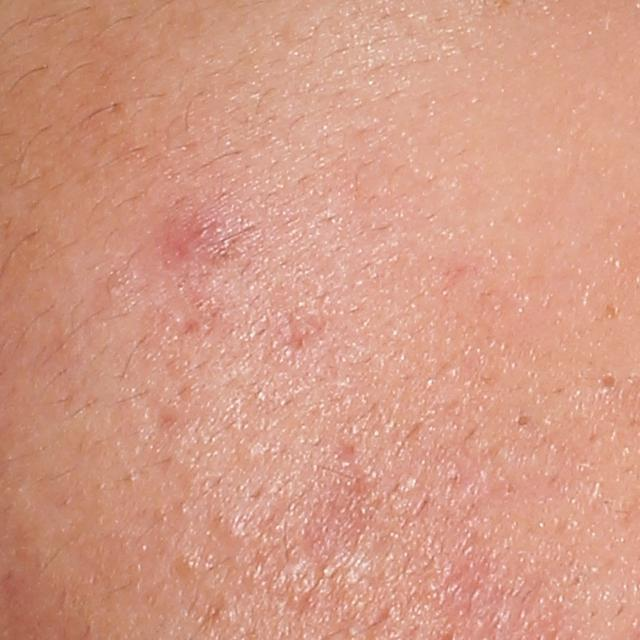comedo: (173, 551, 203, 584), (594, 370, 621, 398), (512, 412, 531, 428)
